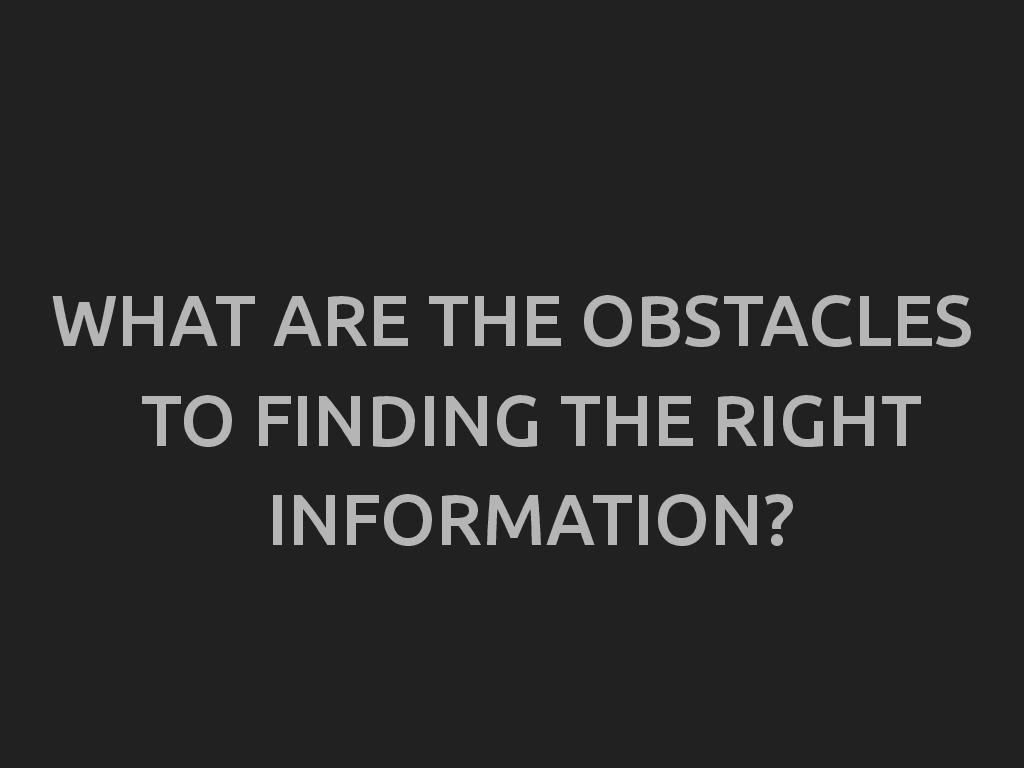title: (37, 253, 998, 584)
